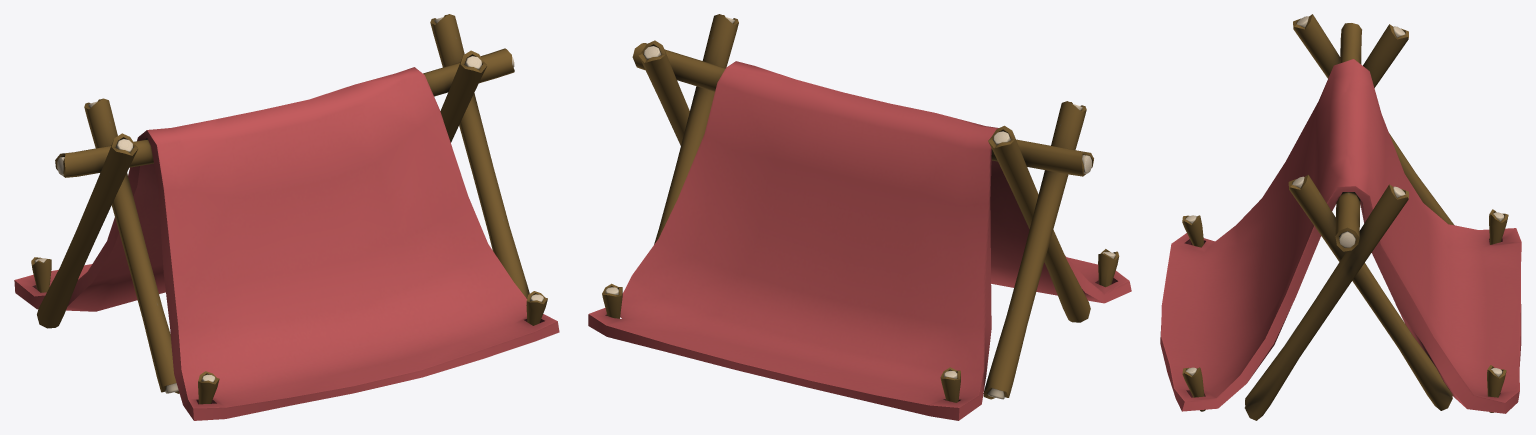
File: Tent.fbx
3 views of the same model, side by side, from view 1: azimuth 30°, elevation 25°; view 2: azimuth 150°, elevation 25°; view 3: azimuth 270°, elevation 25° (orthographic). The views are drawn at different scales.
Visible parts, largest first — view 1: Blanket, Log008, Log009, Log006, Log5, Log007, Stick4, Stick1, Stick2; view 2: Blanket, Log006, Log008, Log007, Log5, Log009, Stick2, Stick3, Stick4; view 3: Blanket, Log009, Log007, Log006, Log5, Log008, Stick2, Stick4, Stick1, Stick3.
Part boxes in pixels (left/top/right/bottom): Blanket: left=14, top=67, right=559, bottom=420; Log008: left=84, top=98, right=179, bottom=393; Log009: left=430, top=14, right=529, bottom=298; Log006: left=37, top=133, right=138, bottom=328; Log5: left=55, top=48, right=514, bottom=177; Log007: left=440, top=50, right=487, bottom=142; Stick4: left=31, top=257, right=51, bottom=292; Stick1: left=526, top=291, right=547, bottom=325; Stick2: left=198, top=371, right=219, bottom=404; Blanket: left=588, top=61, right=1131, bottom=420; Log006: left=983, top=101, right=1086, bottom=399; Log008: left=988, top=125, right=1090, bottom=322; Log007: left=654, top=14, right=738, bottom=244; Log5: left=632, top=43, right=1093, bottom=176; Log009: left=638, top=40, right=689, bottom=145; Stick2: left=1098, top=249, right=1119, bottom=287; Stick3: left=602, top=283, right=622, bottom=318; Stick4: left=940, top=367, right=960, bottom=402; Blanket: left=1160, top=59, right=1521, bottom=413; Log009: left=1244, top=184, right=1408, bottom=420; Log007: left=1288, top=174, right=1452, bottom=410; Log006: left=1293, top=14, right=1454, bottom=225; Log5: left=1335, top=23, right=1361, bottom=251; Log008: left=1363, top=24, right=1408, bottom=87; Stick2: left=1182, top=215, right=1204, bottom=247; Stick4: left=1489, top=209, right=1508, bottom=244; Stick1: left=1182, top=367, right=1205, bottom=411; Stick3: left=1487, top=365, right=1506, bottom=412.
Bounding box in the file's own units: 71.4 × 37.3 × 52.28.
Materials: 1 (1 with a texture image).
